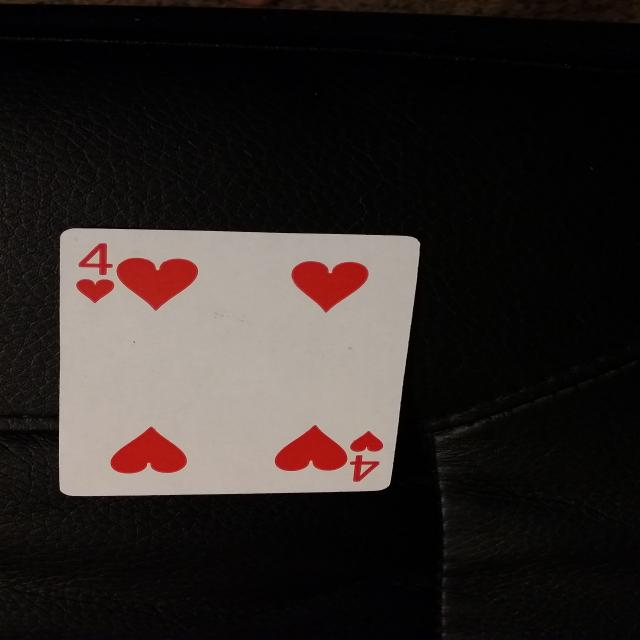4h: (66, 236, 124, 314), (336, 425, 391, 488)
